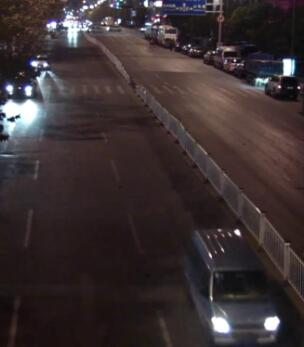bus: (151, 23, 177, 48), (142, 20, 155, 42)
car: (182, 229, 280, 346), (244, 50, 283, 82), (3, 72, 38, 101), (263, 72, 299, 99), (213, 46, 241, 68), (30, 52, 50, 70), (222, 54, 240, 72), (202, 49, 216, 64), (188, 45, 203, 59), (181, 43, 192, 54)
